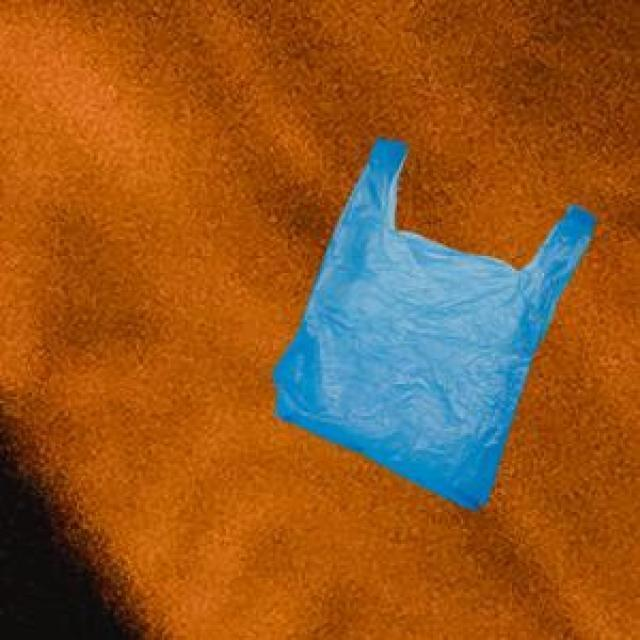waste: (275, 139, 596, 508)
